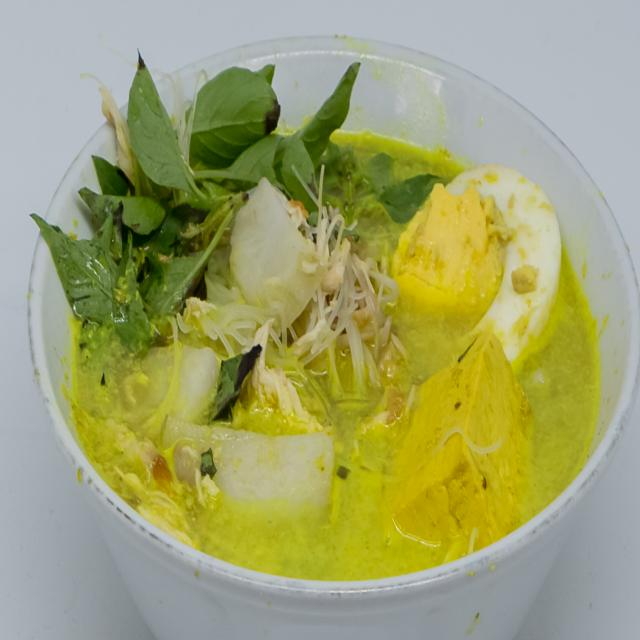Laksa-Bogor: (31, 49, 622, 587)
